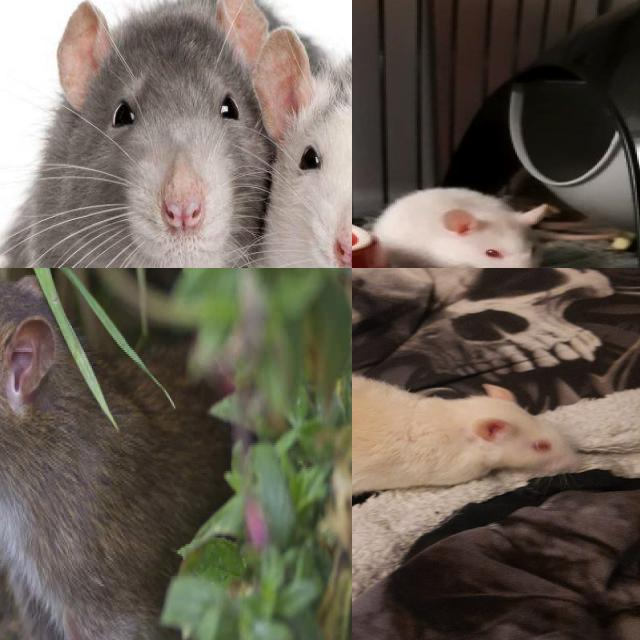rat: (25, 0, 312, 268), (0, 268, 133, 640), (352, 368, 588, 515), (226, 20, 352, 268), (373, 187, 552, 268)
